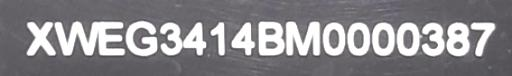letter: (54, 19, 98, 57), (283, 19, 323, 57), (22, 18, 56, 56), (256, 21, 288, 57), (126, 20, 158, 54), (470, 20, 500, 56), (97, 20, 125, 54), (230, 20, 256, 54), (370, 21, 396, 55), (322, 22, 346, 56), (446, 22, 470, 56), (184, 19, 206, 55), (347, 20, 369, 56), (421, 21, 445, 53), (159, 20, 181, 54), (398, 21, 420, 55), (210, 20, 230, 56)
